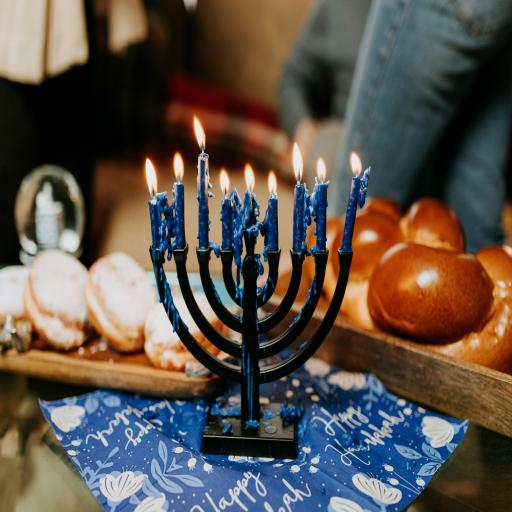candlelight: (188, 107, 218, 251), (345, 151, 373, 254), (237, 169, 259, 264), (262, 170, 279, 284), (308, 161, 328, 256), (145, 156, 162, 256), (291, 144, 306, 256), (172, 154, 186, 252)
